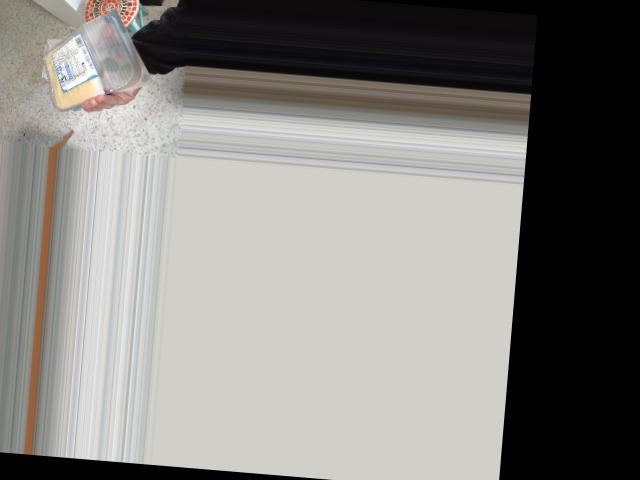cheese: (33, 3, 140, 104)
